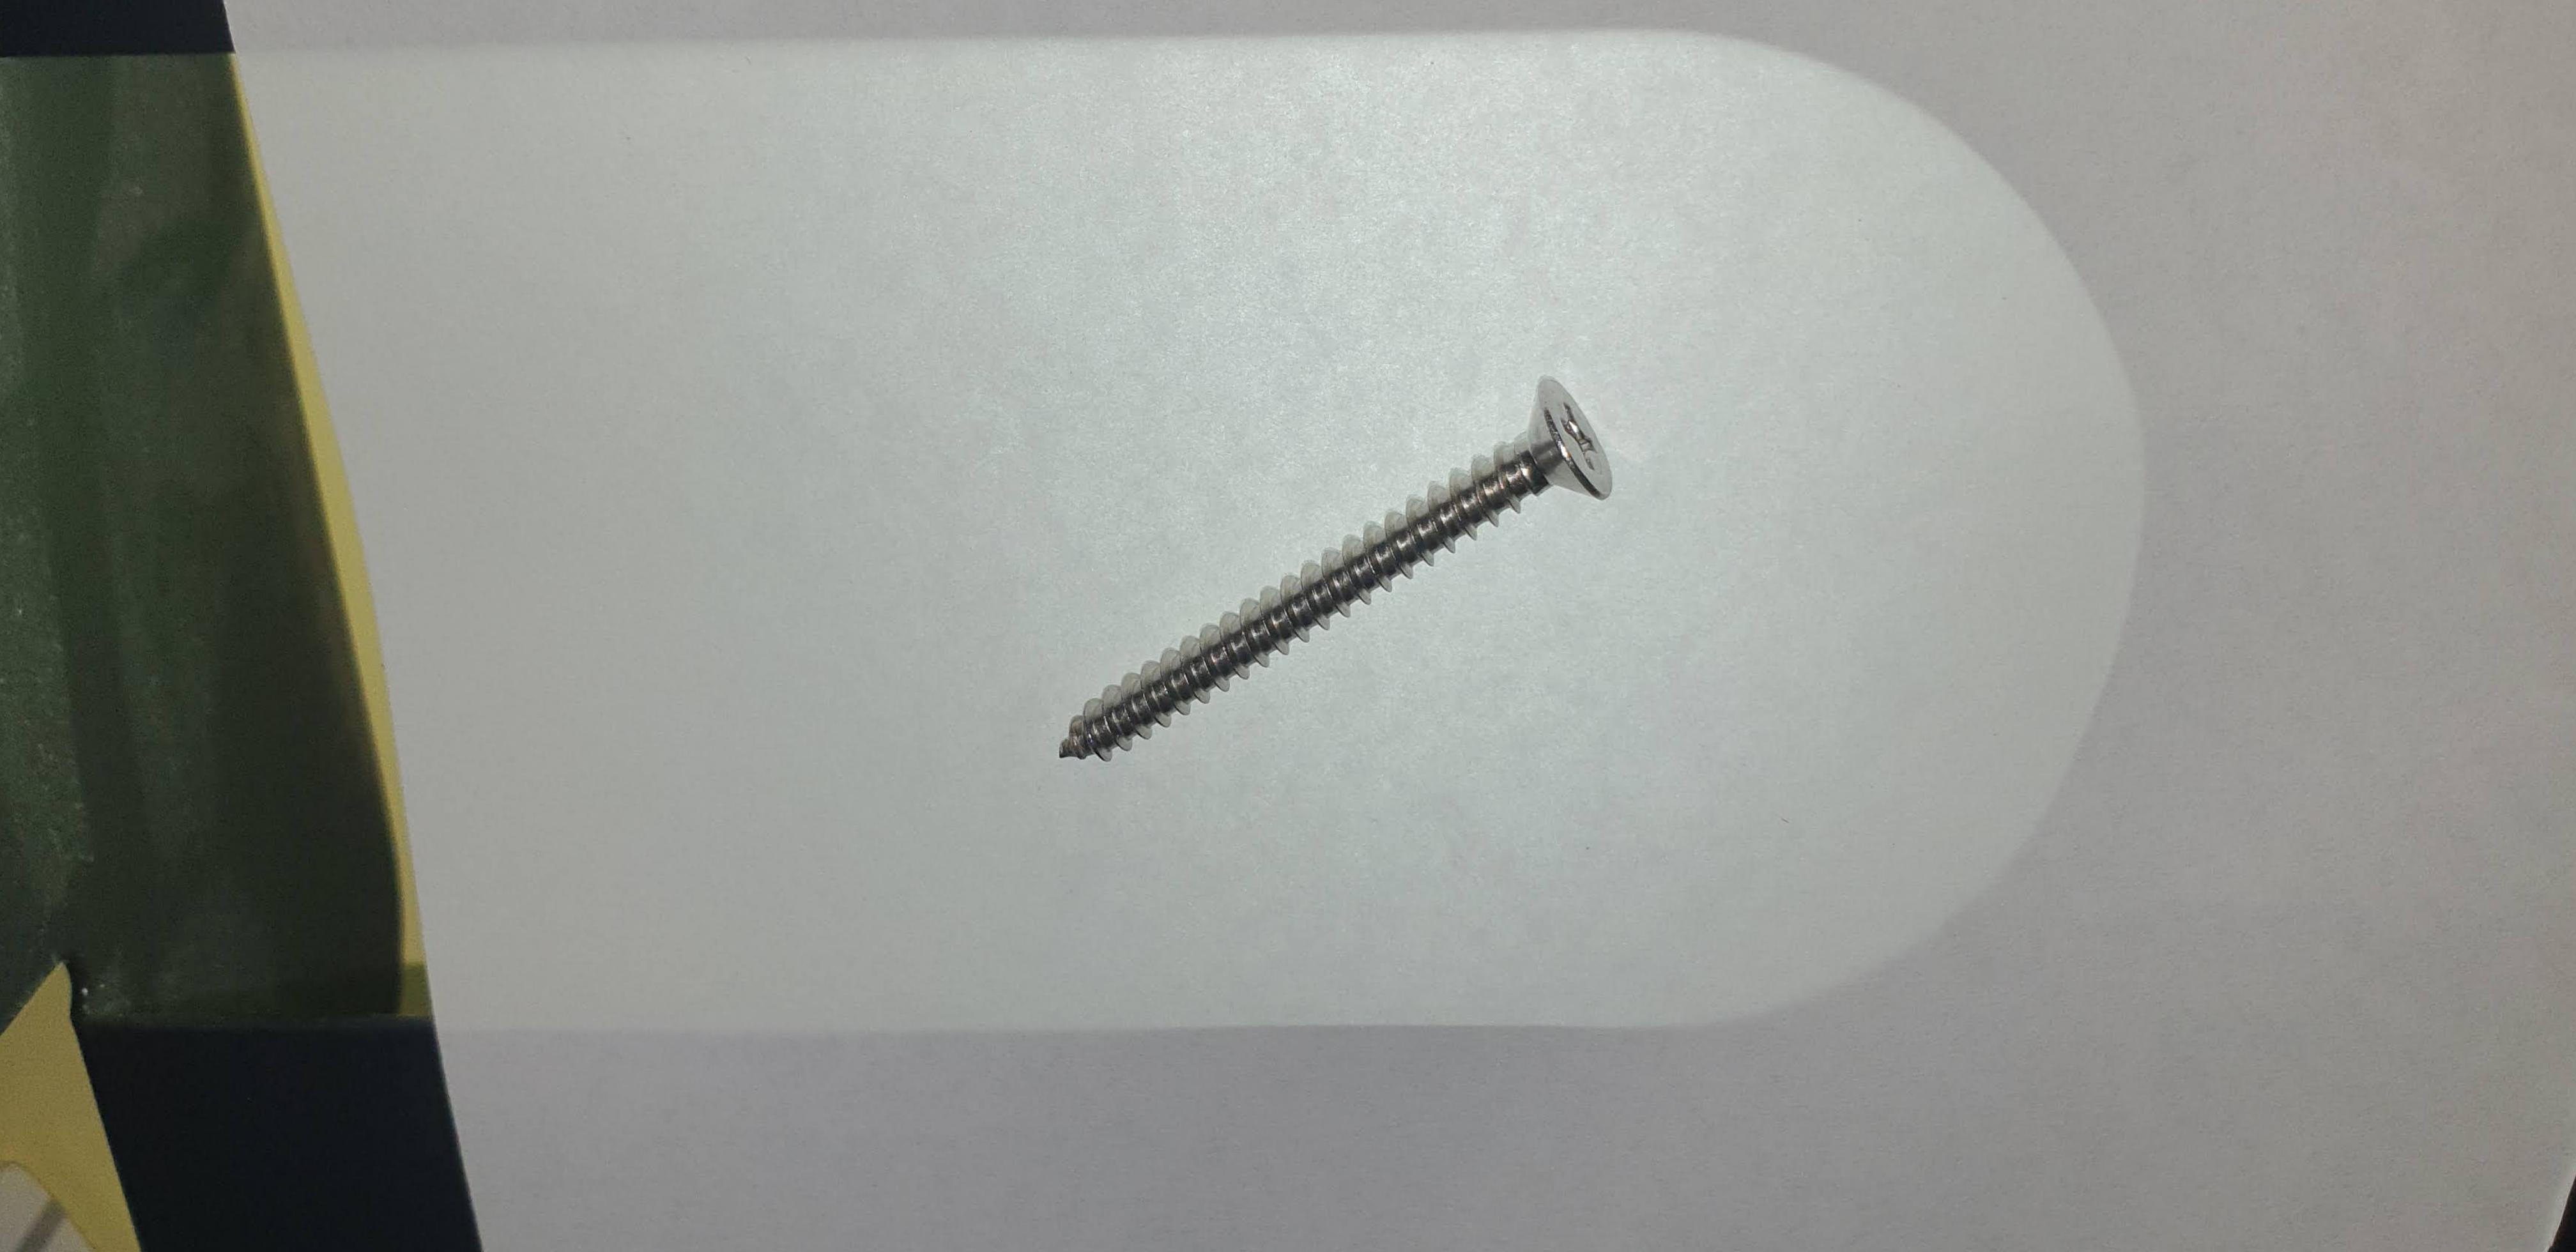fastener: (977, 365, 1784, 789)
